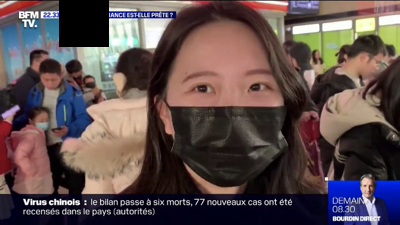with_mask: (169, 66, 287, 188), (35, 116, 51, 133), (85, 79, 97, 90)
without_mask: (363, 51, 384, 81), (40, 74, 62, 90)
